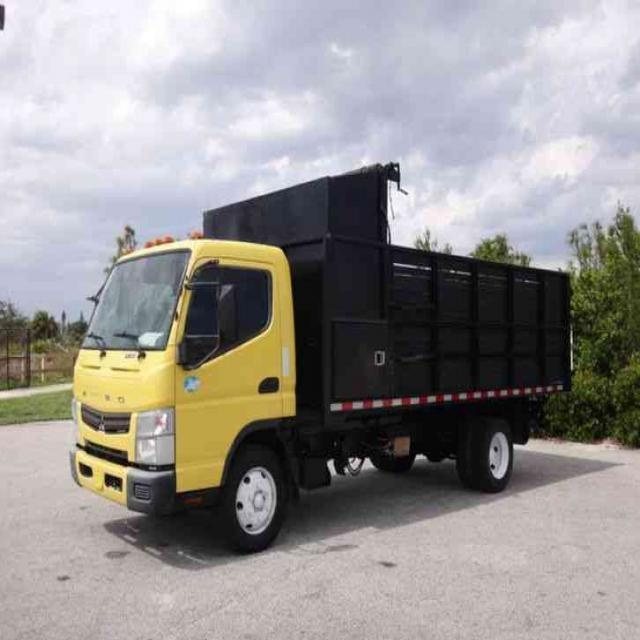Truck: (70, 238, 568, 552)
